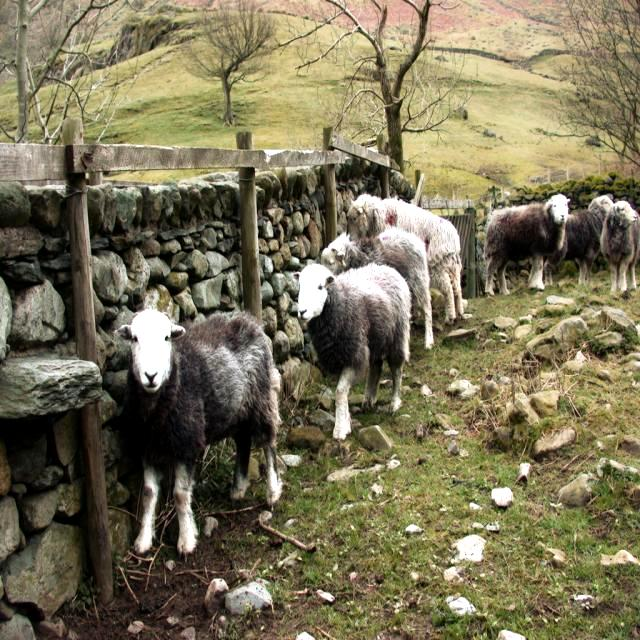sheep: (108, 307, 280, 553)
